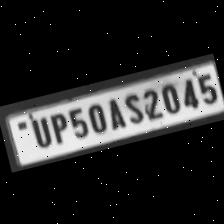0: (156, 78, 182, 116), (82, 98, 108, 134)
2: (136, 82, 163, 120)
4: (174, 72, 200, 110)
5: (191, 68, 220, 106), (62, 102, 90, 140)
A: (101, 94, 125, 130)
P: (45, 108, 71, 145)
S: (117, 87, 145, 125)
U: (26, 113, 54, 149)
